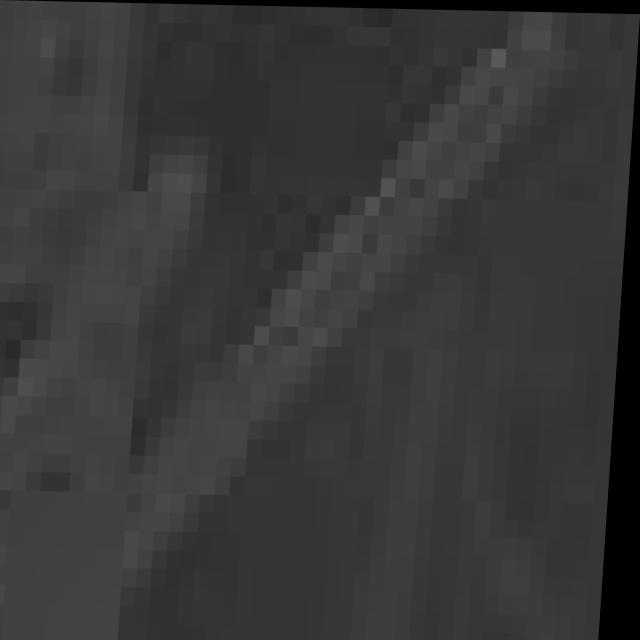fracture: (0, 2, 636, 640)
